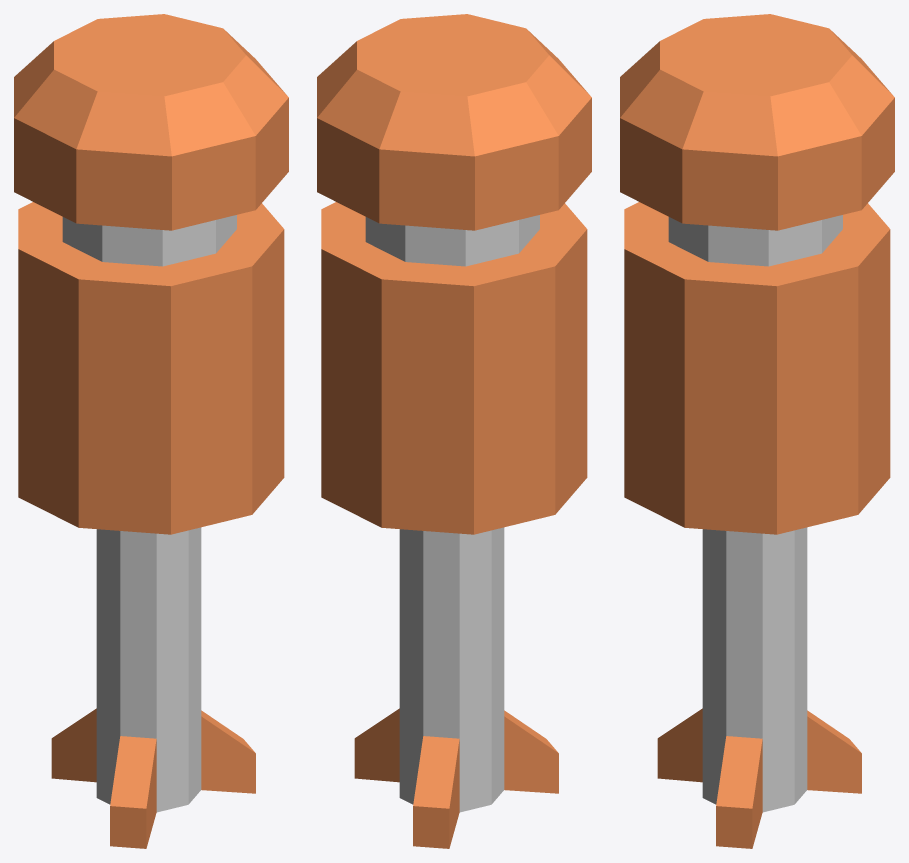
Rendered from Missile2_Mesh.fbx.
3 renders of one model, left to right at view 1: azimuth 30°, elevation 25°; view 2: azimuth 150°, elevation 25°; view 3: azimuth 270°, elevation 25°, orthographic.
Parts seen in each view (by area): view 1: Missile; view 2: Missile; view 3: Missile.
Boxes of the visible parts, x1,y1,x2,y2 form: Missile: (14,14,288,848); Missile: (317,14,591,848); Missile: (620,14,894,848).
Bounding box in the file's own units: 204 × 601 × 200.
